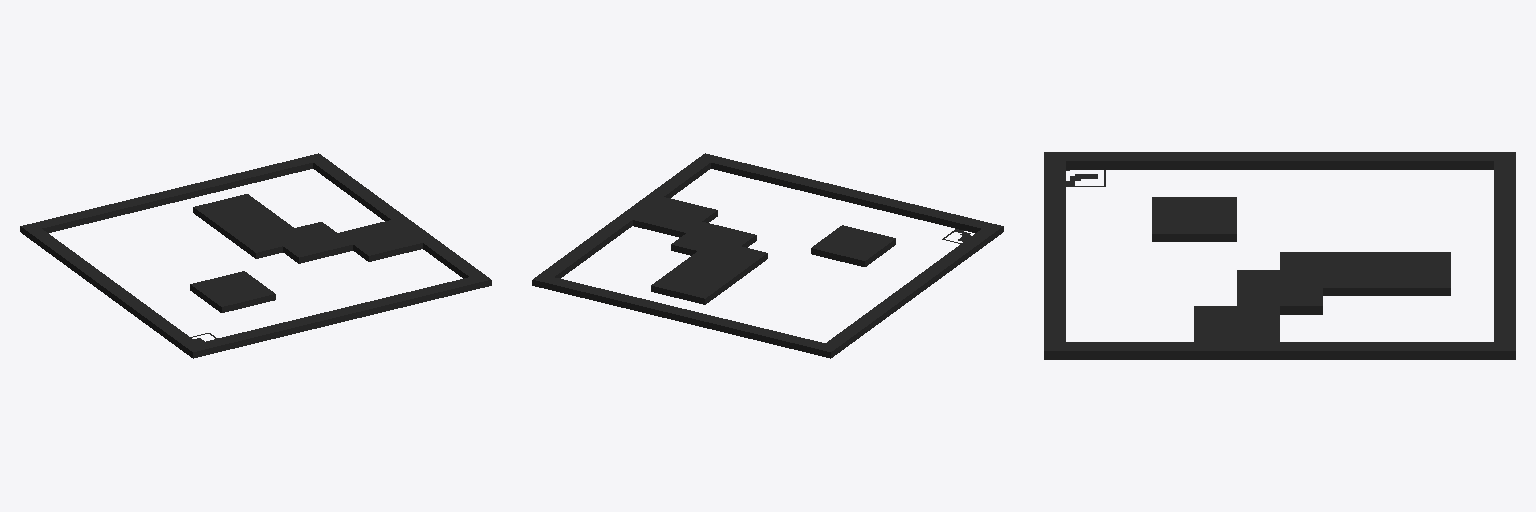
robot.urdf — Room34:
<robot name="Room34">
    <link name="_name">
        <visual> 
            <origin rpy="0.0 0.0 0.0" xyz="-0.5518370443028274 -0.5067887202264482 -0.009999999999999997" />
                <geometry>
                    <mesh filename="Room34/Room34.obj" scale="1 1 0.1" />
                </geometry>

            <material name="black">
                <color rgba="0.2 0.2 0.2 0.95" />
            </material>
        </visual>

       <collision concave="yes" name="collision_0">
            <origin rpy="0.0 0.0 0.0" xyz="-0.5518370443028274 -0.5067887202264482 -0.009999999999999997" />
            <geometry>
                <mesh filename="Room34/Room34_vhacd.obj" scale="1 1 0.1" />
            </geometry>
        </collision>

        <inertial> 
            <mass value="0" />
            <inertia ixx="0" ixy="0" ixz="0" iyy="0" iyz="0" izz="0" />
        </inertial> 
    </link>
</robot>

--- Render facts (derived) ---
Views: 3 orthographic renders of the robot side by side, from view 1: azimuth 30°, elevation 25°; view 2: azimuth 150°, elevation 25°; view 3: azimuth 270°, elevation 25°.
Robot: Room34 — 1 links, 0 joints (none); root link _name; default pose: every joint at zero.
Visible links, largest first — view 1: _name; view 2: _name; view 3: _name.
Link boxes in pixels (x1=…): _name: x1=20, y1=153, x2=491, y2=358; _name: x1=532, y1=153, x2=1003, y2=358; _name: x1=1044, y1=152, x2=1515, y2=359.
Size in the robot's own frame: 1 by 1 by 0.02 metres.
1 mesh visuals loaded from 1 distinct referenced files (1 OBJ).